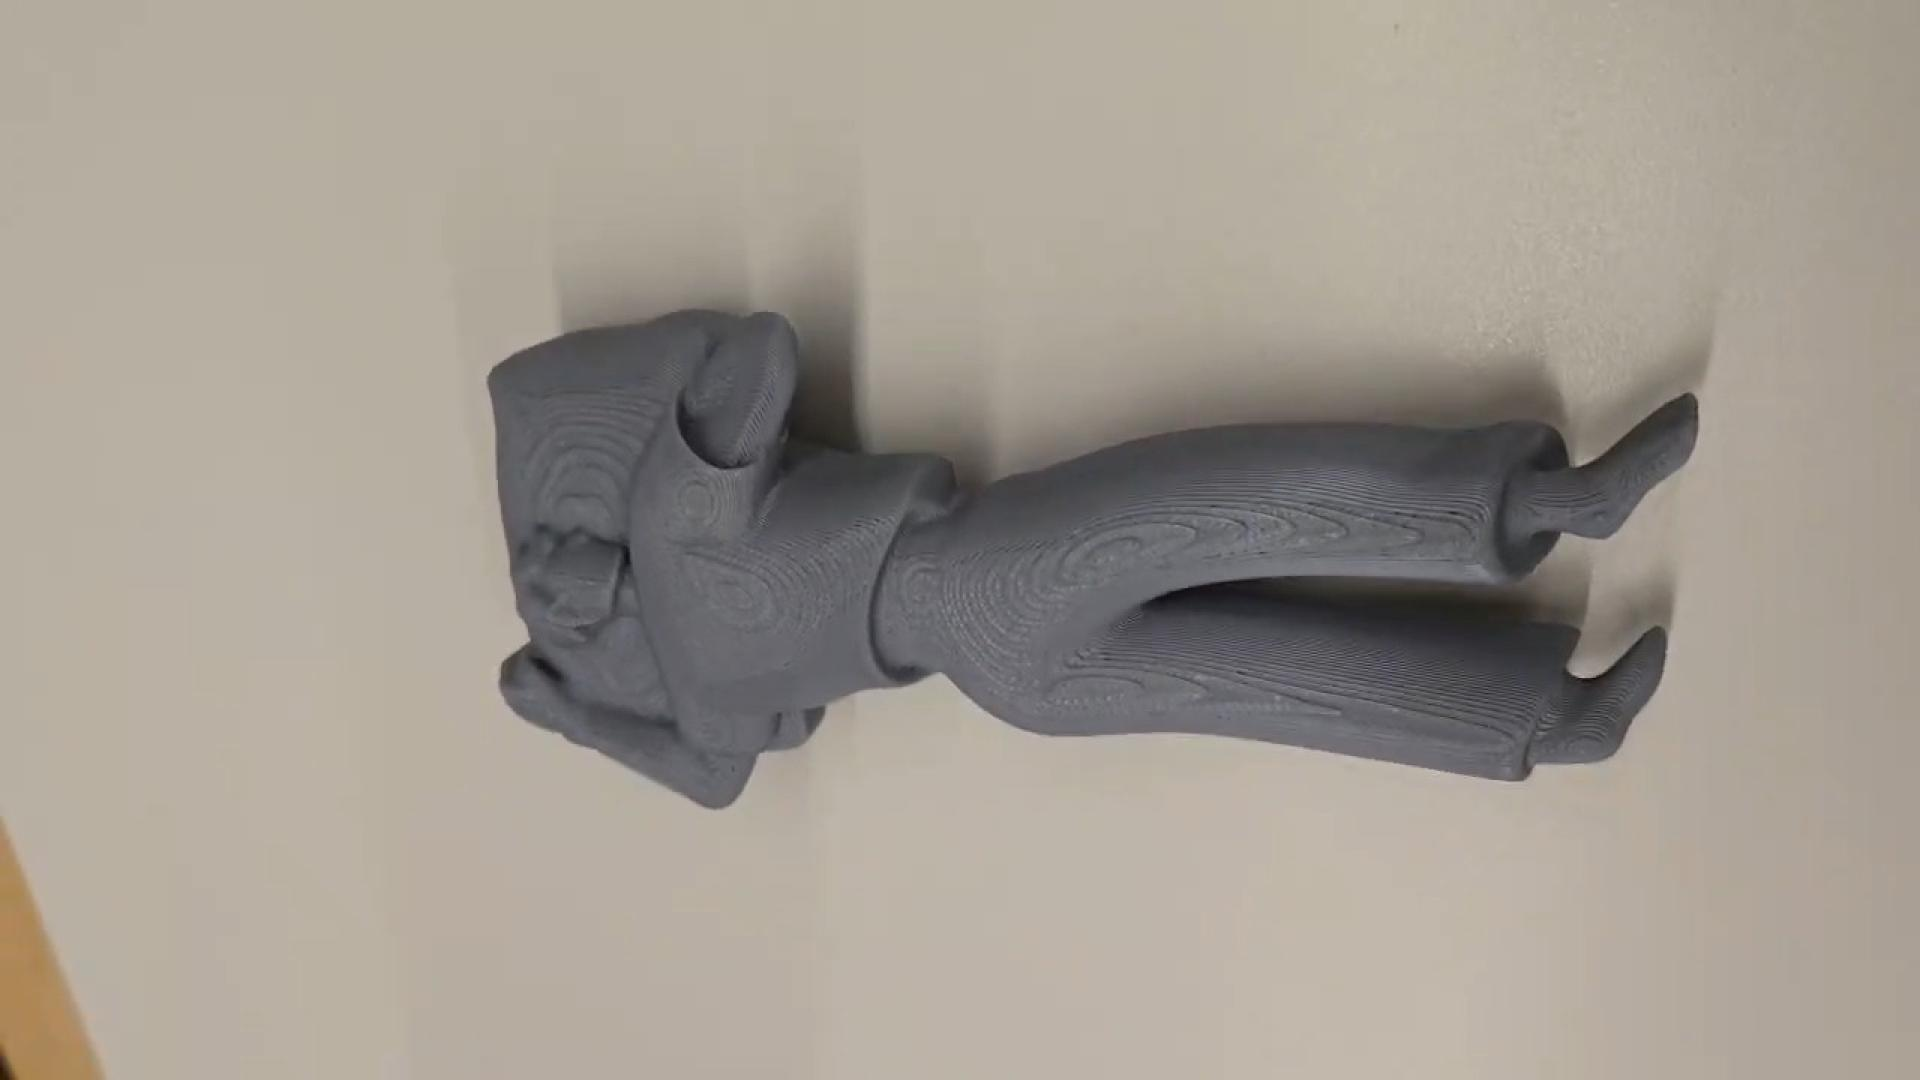Bad-style: (484, 295, 1706, 808)
